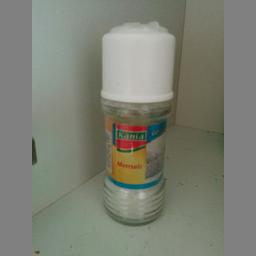spices: (98, 18, 175, 224)
